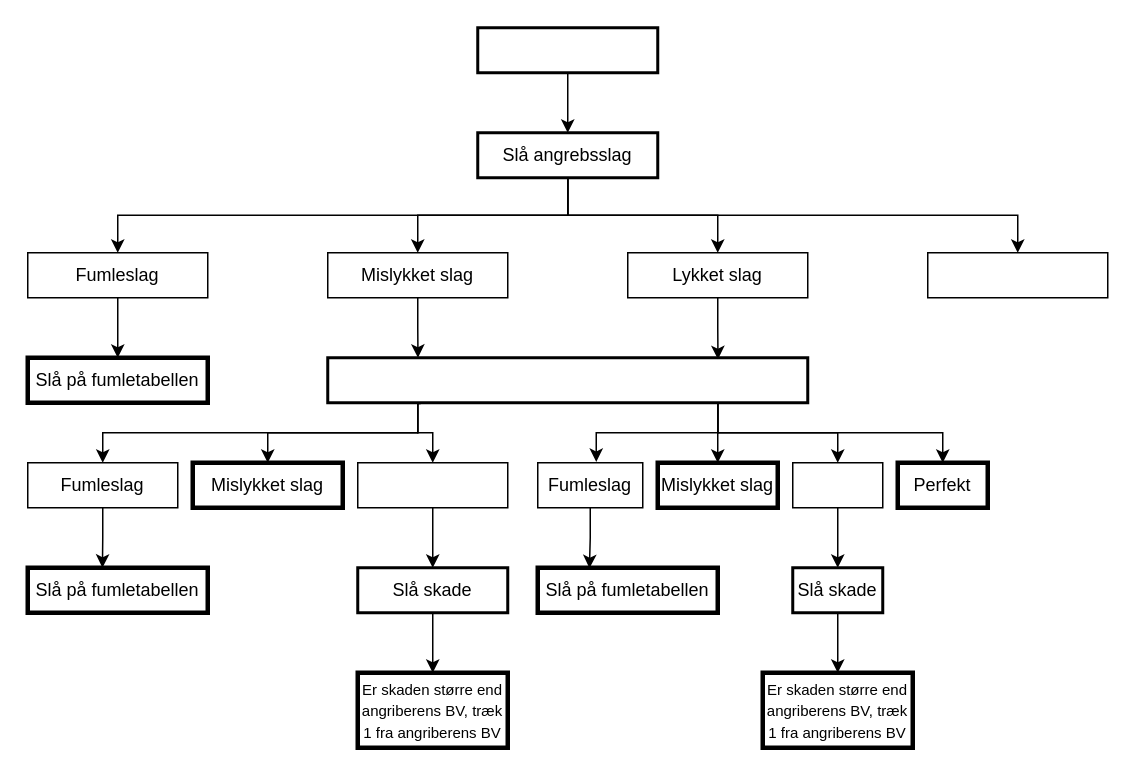
Some shapes in this 1134 by 776 pixel diagram are drawn without their labels. The centre of each missing label's shape, as x and y in pixels:
Beregn CL: (x=567, y=50)
Lykkedes: (x=837, y=484)
Lykkedes eller perfekt: (x=432, y=484)
Perfekt slag: (x=1017, y=274)
Slå pareringsslag, ikke projektilangreb: (x=567, y=380)
